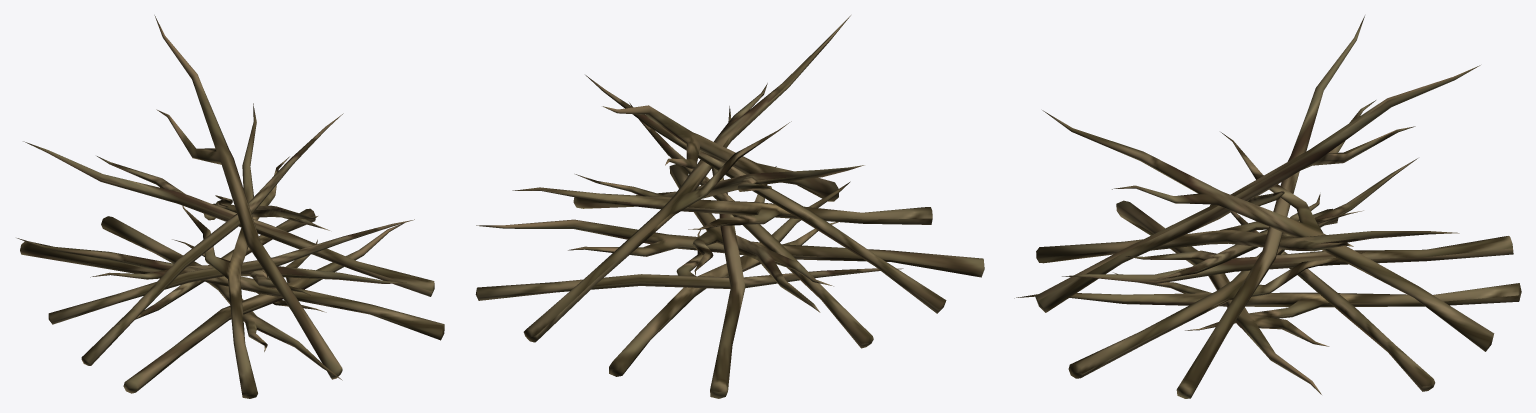
The model's file is Campfire08.fbx.
3 renders of one model, left to right at view 1: azimuth 30°, elevation 25°; view 2: azimuth 150°, elevation 25°; view 3: azimuth 270°, elevation 25°, orthographic. The views are drawn at different scales.
Visible parts, largest first — view 1: Campfire08_LOD0; view 2: Campfire08_LOD0; view 3: Campfire08_LOD0.
Part boxes in pixels (box(x1,y1,x2,y2)): Campfire08_LOD0: box(17, 15, 444, 398); Campfire08_LOD0: box(475, 15, 984, 398); Campfire08_LOD0: box(1014, 16, 1521, 398).
Size of what is drawn, in the model's own units: 51.5 by 29.56 by 53.65.
